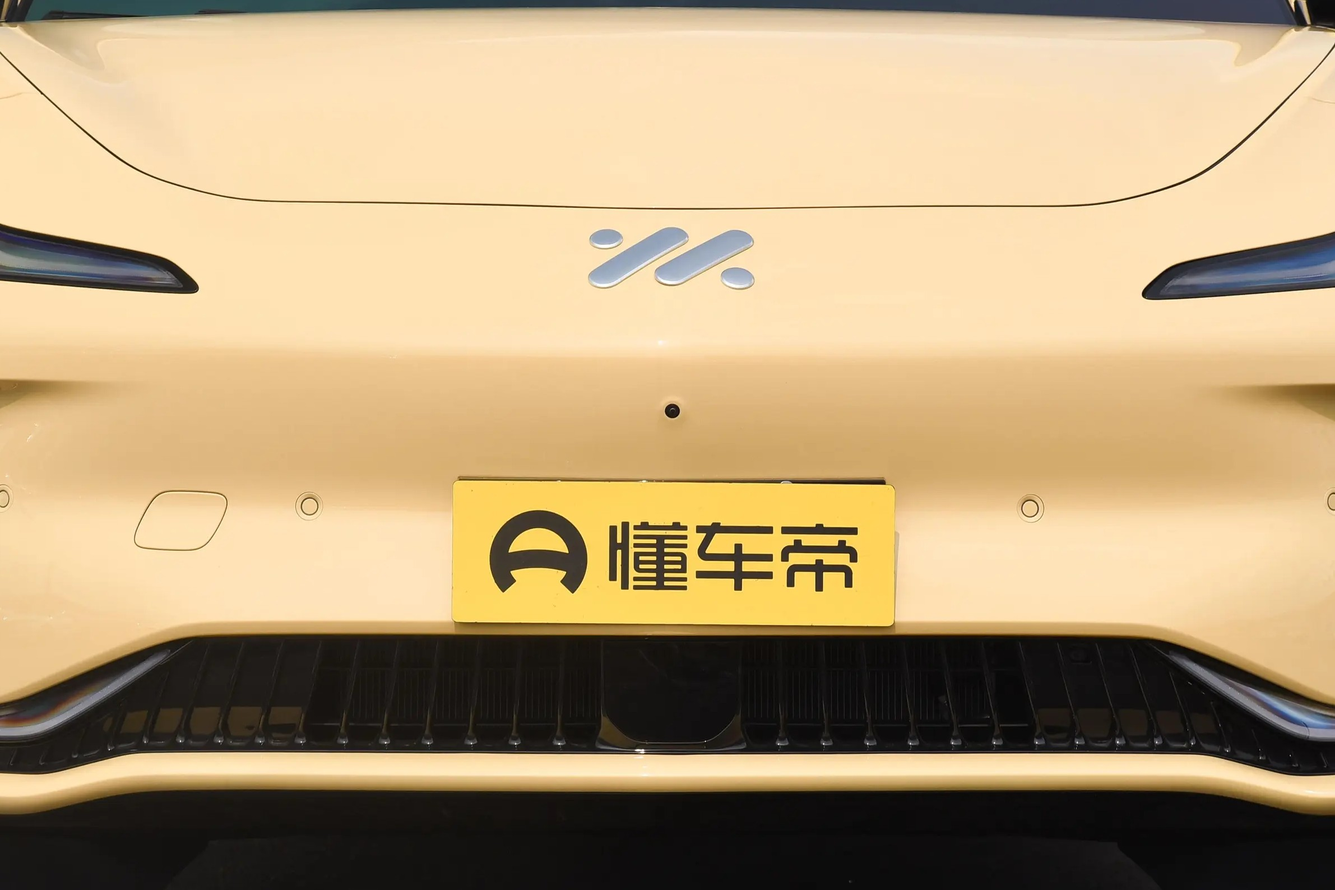IM: (588, 227, 754, 289)
